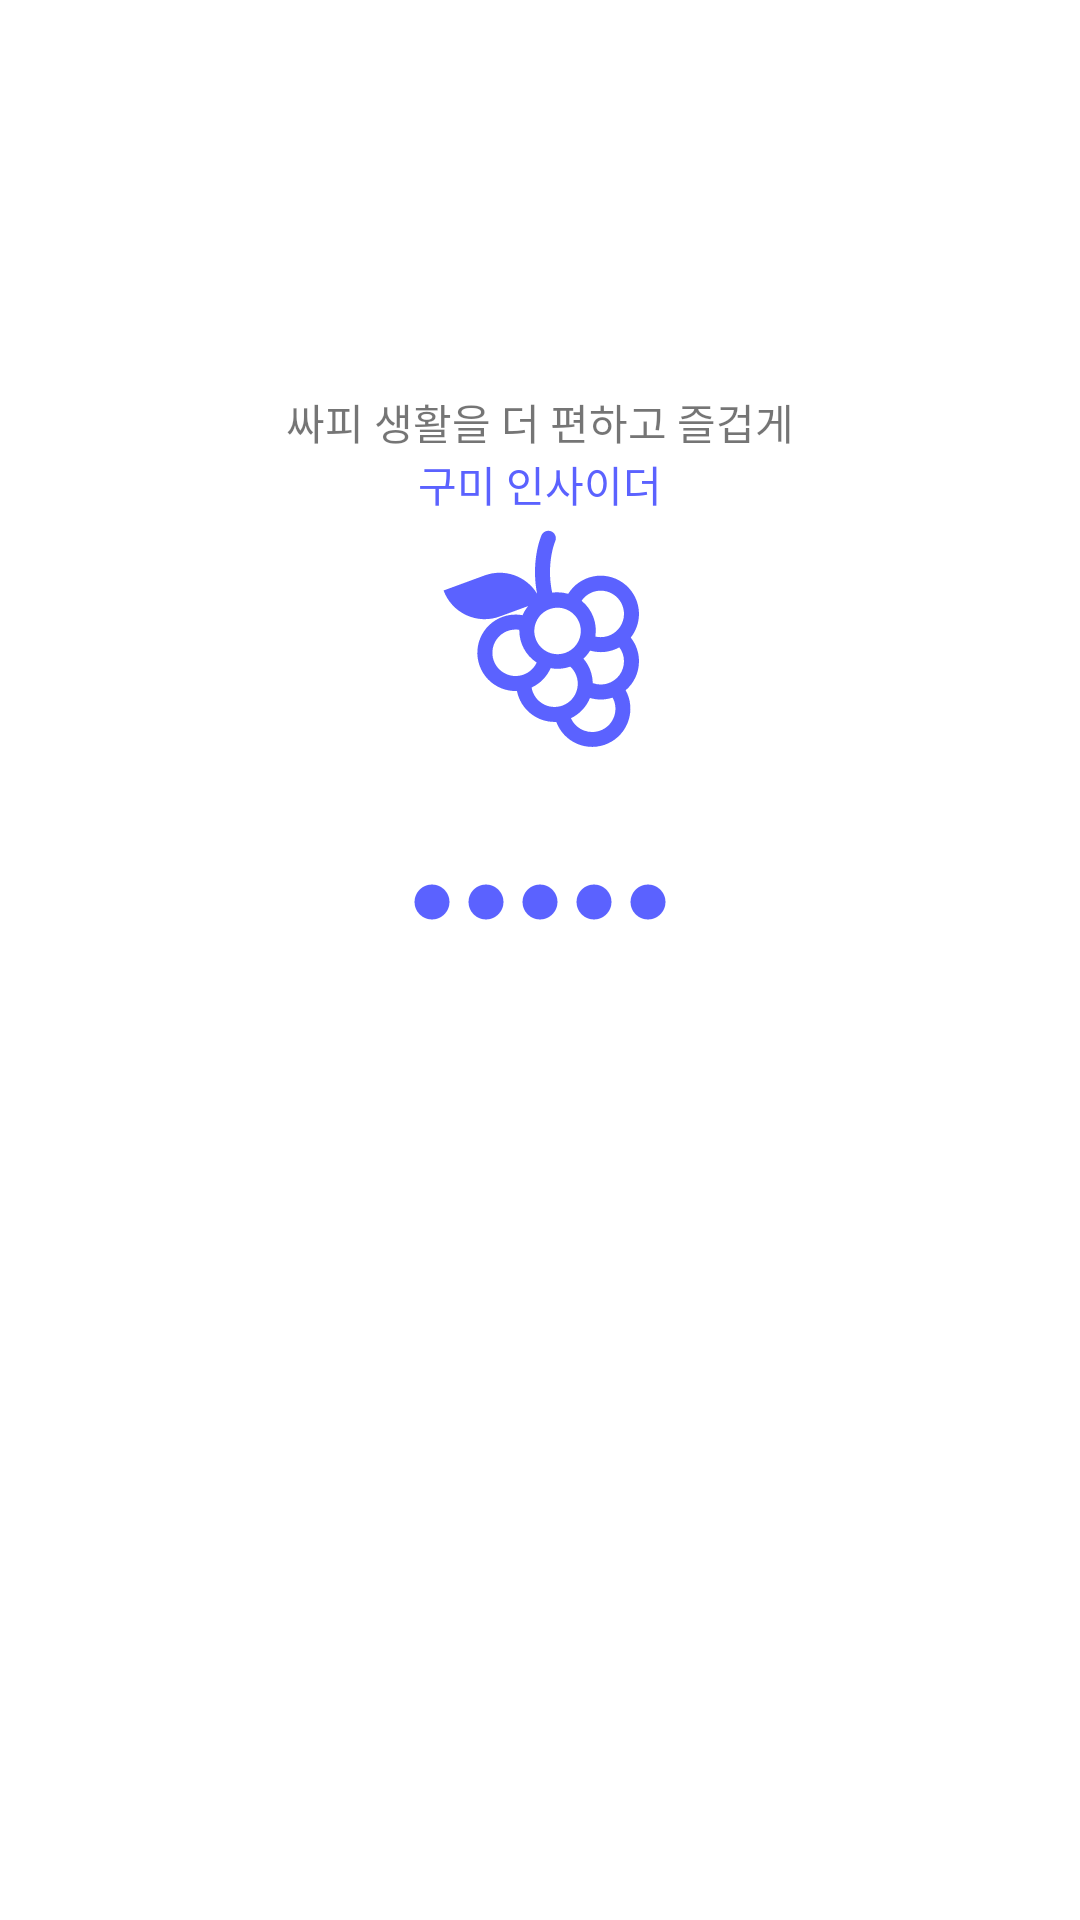

Point at icon controls on the screen. Image size 1080 × 1920, points as (x,y).
grape: (541,638)
